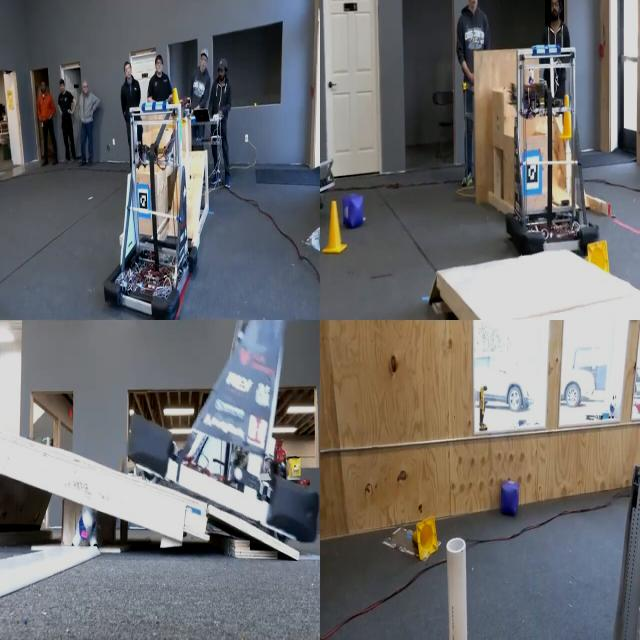frc_cone: (324, 197, 346, 263), (164, 86, 192, 136), (412, 520, 440, 561), (560, 82, 577, 144), (588, 243, 612, 276)
frc_cube: (497, 474, 520, 519), (343, 189, 363, 235)
